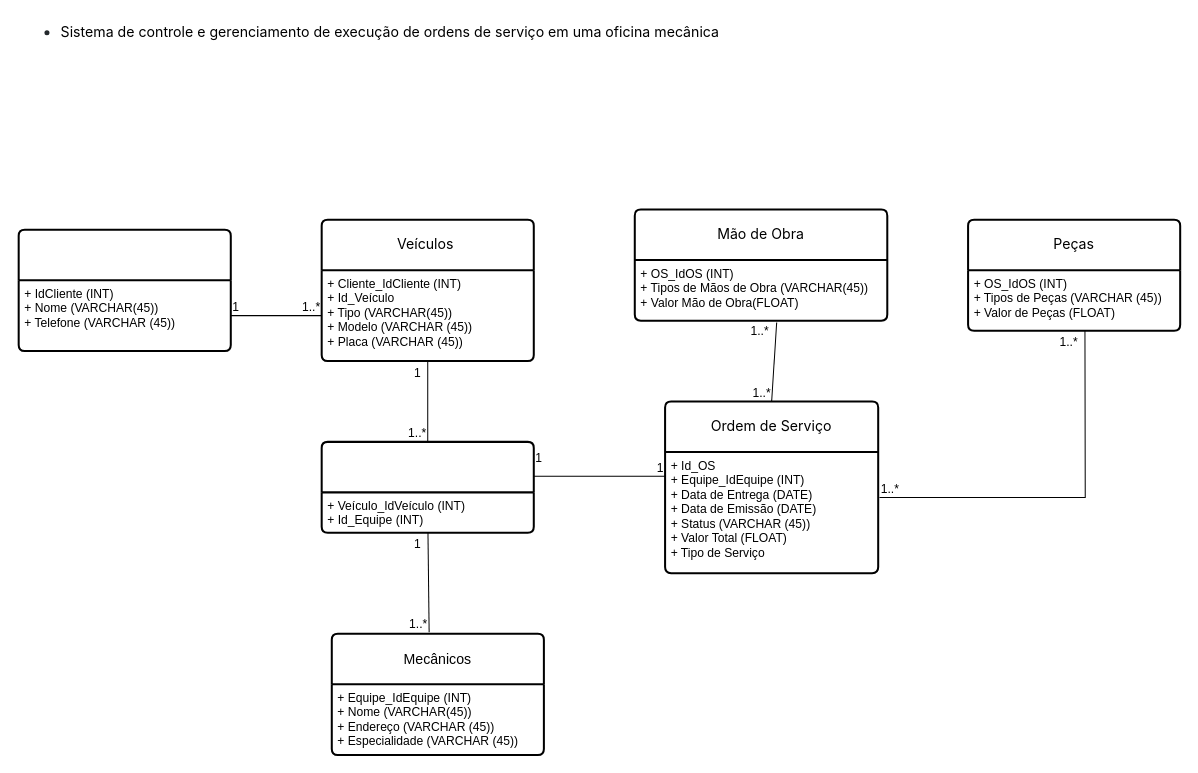
Image size: 1198x773. Some labels were removed from this diagram. The shapes that lost their labels are listed below. From the top down, each one's box as (x1, y1, x2, y2) in pixels, then its label:
(17, 228, 231, 351): Clientes
(320, 440, 534, 533): Equipe de Mecânicos
